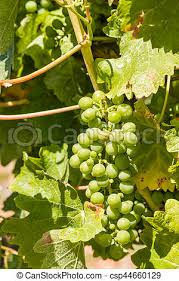grapes: (76, 88, 144, 244)
